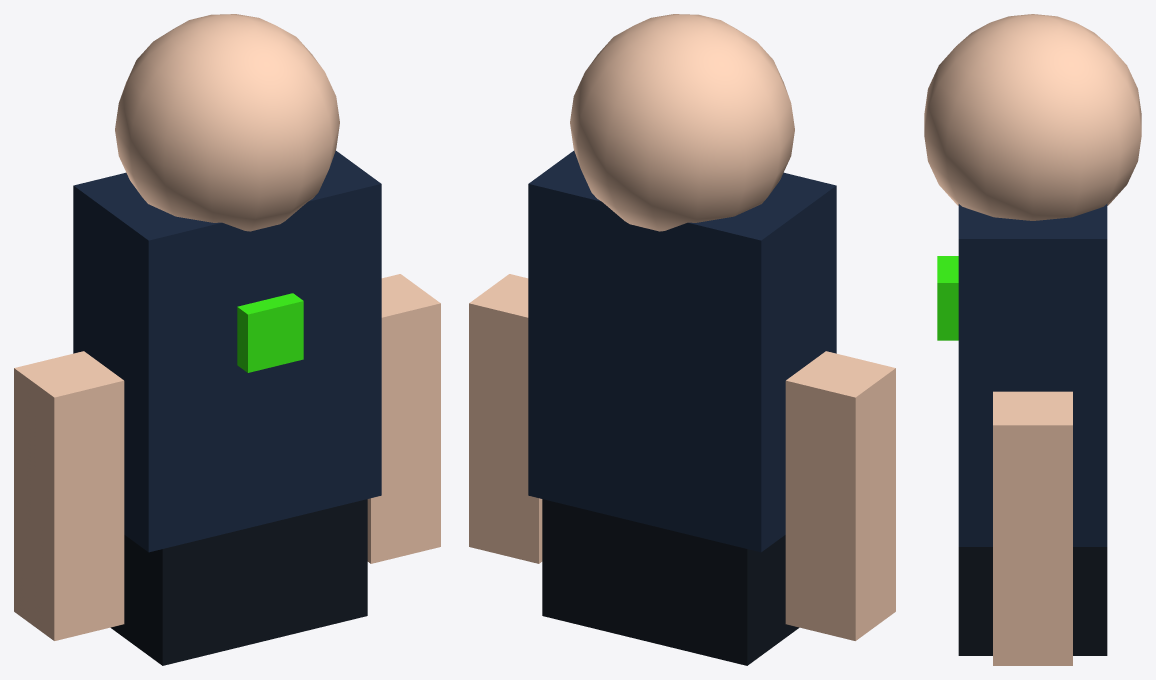
The model's file is tc_msh.glb.
The picture shows the model from 3 angles, left to right: view 1: azimuth 30°, elevation 25°; view 2: azimuth 150°, elevation 25°; view 3: azimuth 270°, elevation 25°; orthographic projection.
Parts seen in each view (by area): view 1: TC Marshal; view 2: TC Marshal; view 3: TC Marshal.
Boxes of the visible parts, x1,y1,x2,y2 form: TC Marshal: (14, 14, 440, 665); TC Marshal: (469, 14, 895, 665); TC Marshal: (924, 14, 1141, 665).
Size of the model in its own units: 0.83 by 1.21 by 0.4095.
